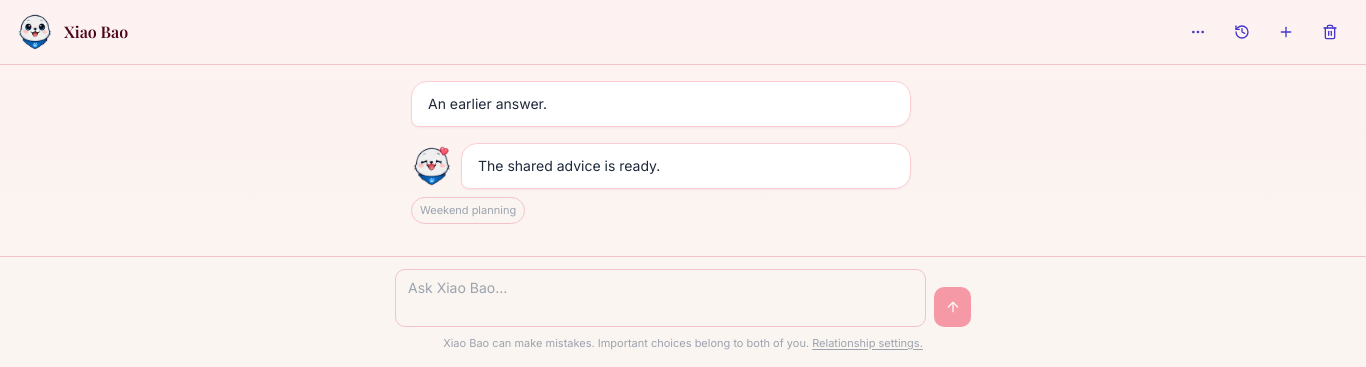
Scenario: Xiao Bao header layout › keeps every Xiao Bao page reachable from one menu so the header fits
Click the button named "More Xiao Bao pages". click: [1198, 32]
box: left=1178, top=12, right=1218, bottom=52
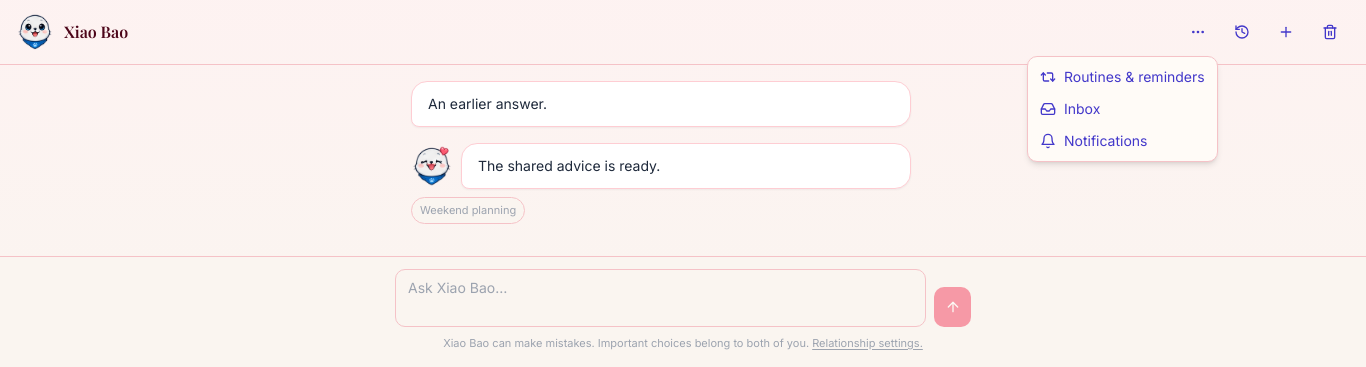
Now the menu items read "Routines & reminders", "Inbox", "Notifications", in this order, box left=1040, top=68, right=1205, bottom=85; left=1040, top=100, right=1100, bottom=117; left=1040, top=132, right=1148, bottom=149
